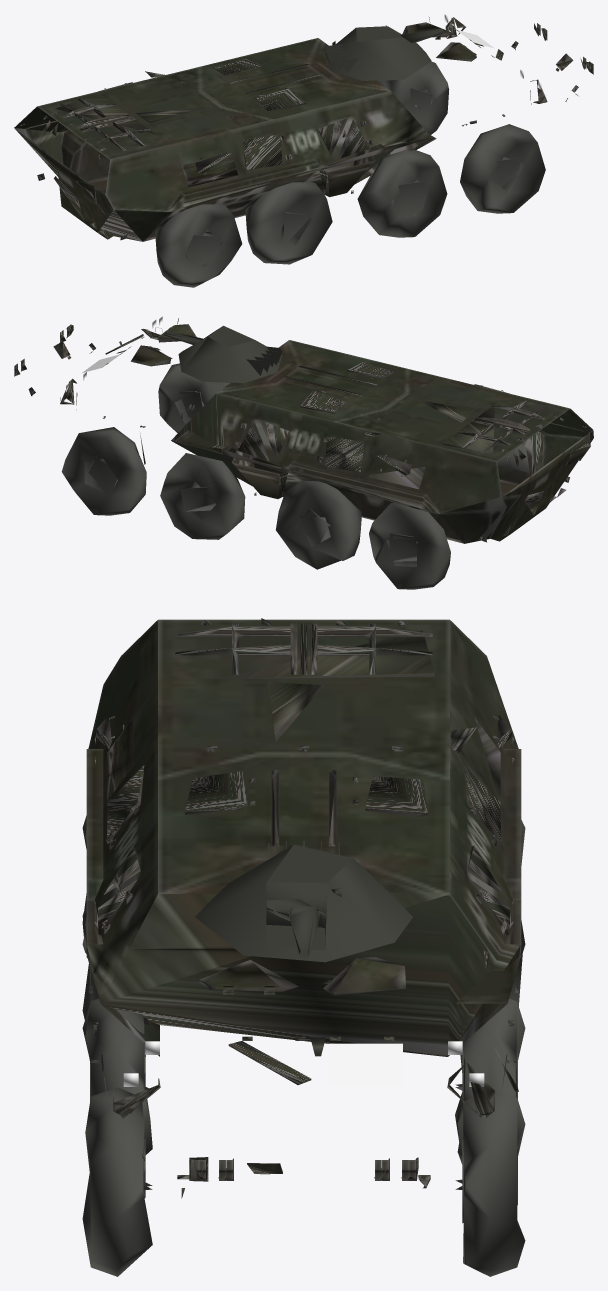
Rendered from btr.lod1.glb.
3 views of the same model, one above another, from view 1: azimuth 30°, elevation 25°; view 2: azimuth 150°, elevation 25°; view 3: azimuth 270°, elevation 25° (orthographic). The views are drawn at different scales.
Visible parts, largest first — view 1: Object_2, Object_3; view 2: Object_2, Object_3; view 3: Object_2, Object_3.
Part boxes in pixels (x1,y1,x2,y2): Object_2: [14, 17, 593, 241]; Object_3: [155, 14, 545, 287]; Object_2: [14, 318, 593, 543]; Object_3: [61, 316, 529, 589]; Object_2: [86, 618, 521, 1198]; Object_3: [82, 815, 525, 1276].
Size of the model in its own units: 7.68 by 2.35 by 2.89.
2 materials, 1 textured.
